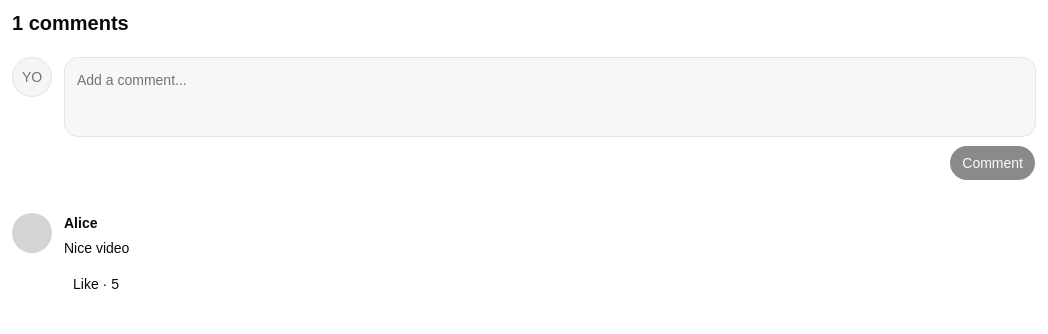
Test: CommentsSection comment likes › displays an error when posting a comment fails
The width and height of the screenshot is (1048, 334).
Type "New comment" into the text box with placeholder "Add a comment..." at (550, 97), box [64,57,1036,137]
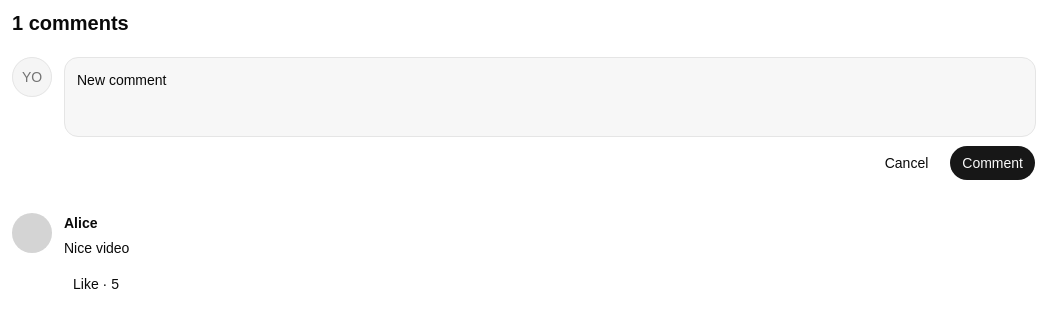
Click the button "Comment" at (993, 163), box [949,145,1036,181]
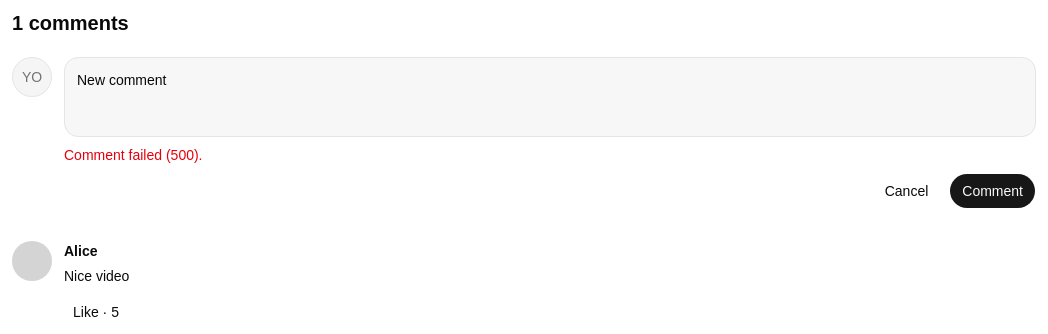
Result: the text "Comment failed (500)." is shown at [64,147,202,163]
